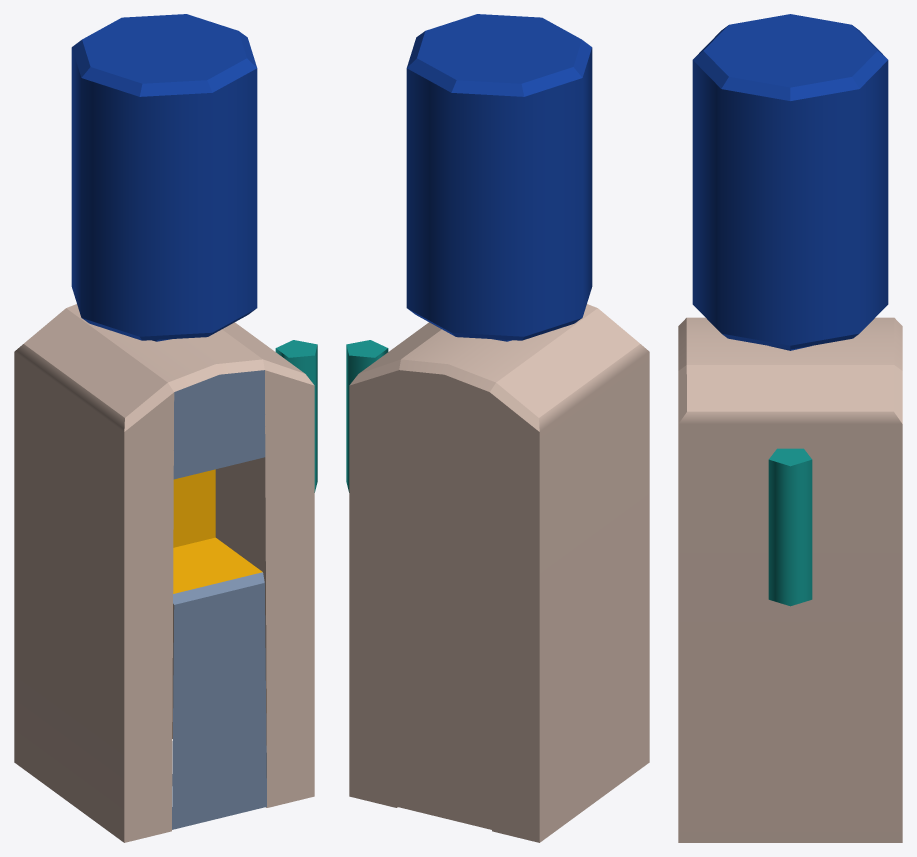
File: SM_Water_Apparatus.fbx
The picture shows the model from 3 angles, left to right: view 1: azimuth 30°, elevation 25°; view 2: azimuth 150°, elevation 25°; view 3: azimuth 270°, elevation 25°; orthographic projection.
Parts seen in each view (by area): view 1: SM_Water_Apparatus; view 2: SM_Water_Apparatus; view 3: SM_Water_Apparatus.
Boxes of the visible parts, bbox=[...] form: SM_Water_Apparatus: bbox=[14, 14, 317, 842]; SM_Water_Apparatus: bbox=[346, 14, 649, 842]; SM_Water_Apparatus: bbox=[678, 14, 902, 842].
Bounding box in the file's own units: 59.74 × 168 × 45.83.
